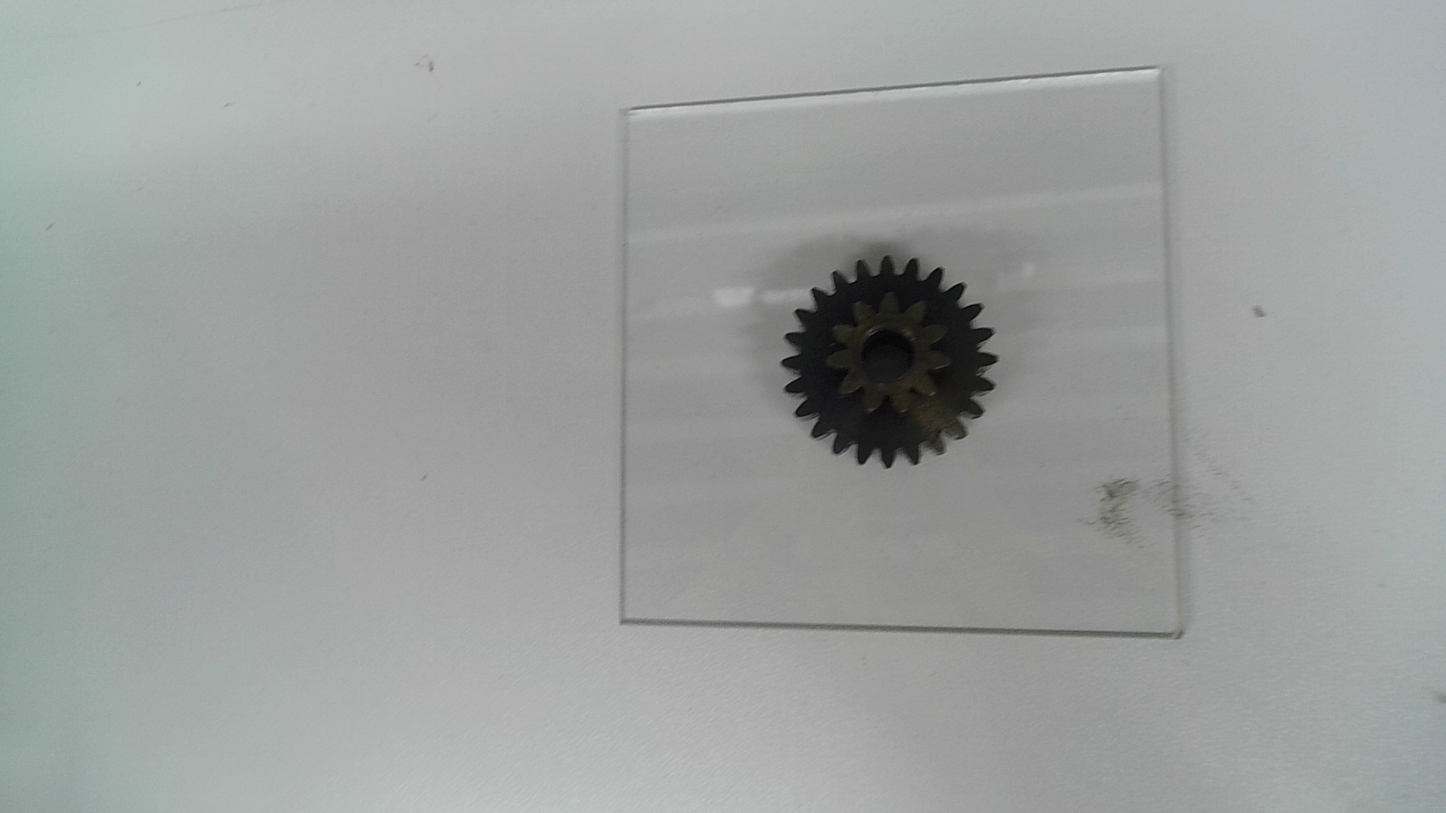gear: (778, 250, 1000, 477)
